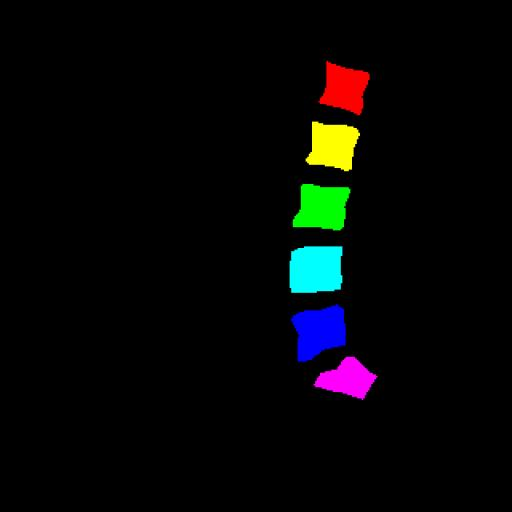L1: (319, 61, 369, 114)
L2: (306, 121, 358, 170)
L3: (293, 184, 350, 230)
L4: (287, 246, 342, 292)
L5: (293, 304, 345, 362)
S1: (313, 356, 377, 400)
